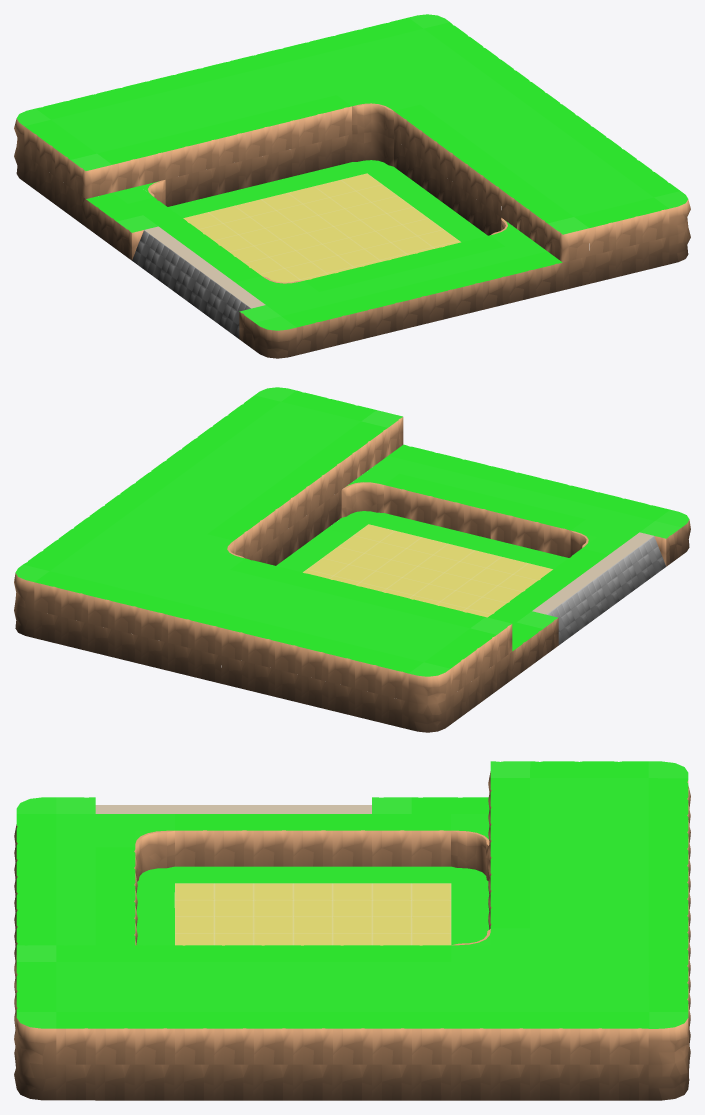
Rendered from Environment_Platform_Level1.fbx.
3 renders of one model, top to bottom at view 1: azimuth 30°, elevation 25°; view 2: azimuth 150°, elevation 25°; view 3: azimuth 270°, elevation 25°, orthographic. The views are drawn at different scales.
Parts seen in each view (by area): view 1: Env Level 1; view 2: Env Level 1; view 3: Env Level 1.
Part boxes in pixels (bbox=[...]): Env Level 1: bbox=[14, 14, 690, 358]; Env Level 1: bbox=[14, 387, 690, 732]; Env Level 1: bbox=[14, 761, 690, 1100].
Size of the model in its own units: 645 by 80.31 by 685.
Materials: 2 (2 with a texture image).
